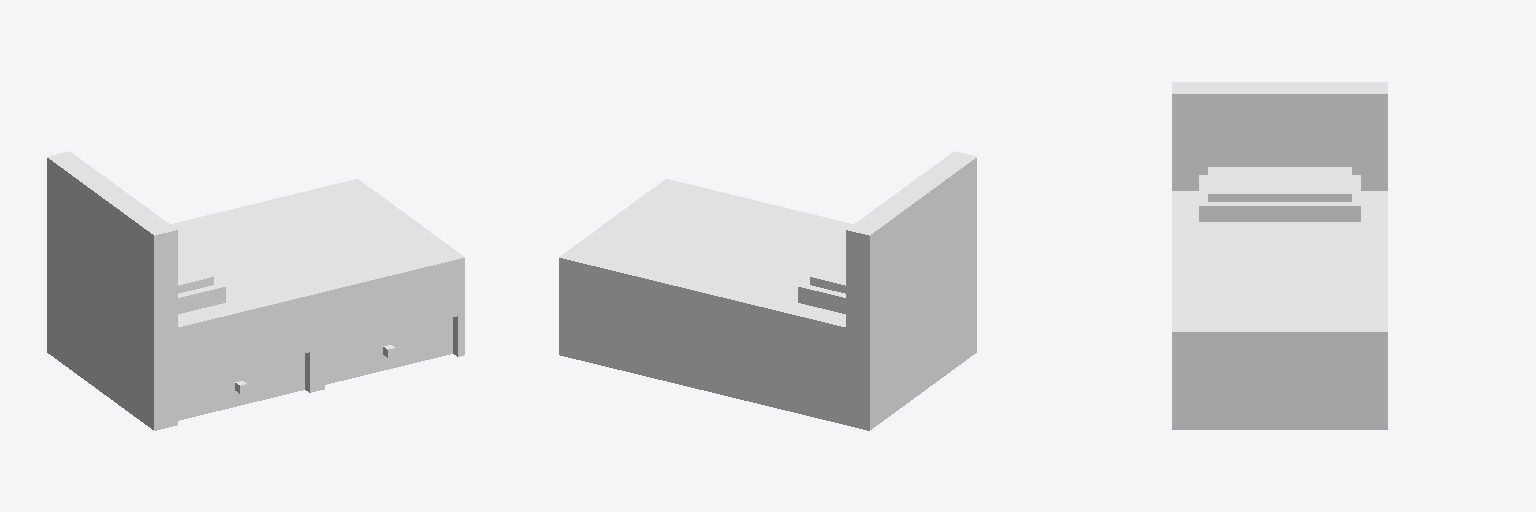
File: cama.obj
The picture shows the model from 3 angles: view 1: azimuth 30°, elevation 25°; view 2: azimuth 150°, elevation 25°; view 3: azimuth 270°, elevation 25°; orthographic projection.
Visible parts, largest first — view 1: object 1; view 2: object 1; view 3: object 1.
Part boxes in pixels (x1,y1,x2,y2): object 1: (47,151,464,430); object 1: (559,151,976,430); object 1: (1172,82,1387,429).
Bounding box in the file's own units: 4 × 2.4 × 2.4.